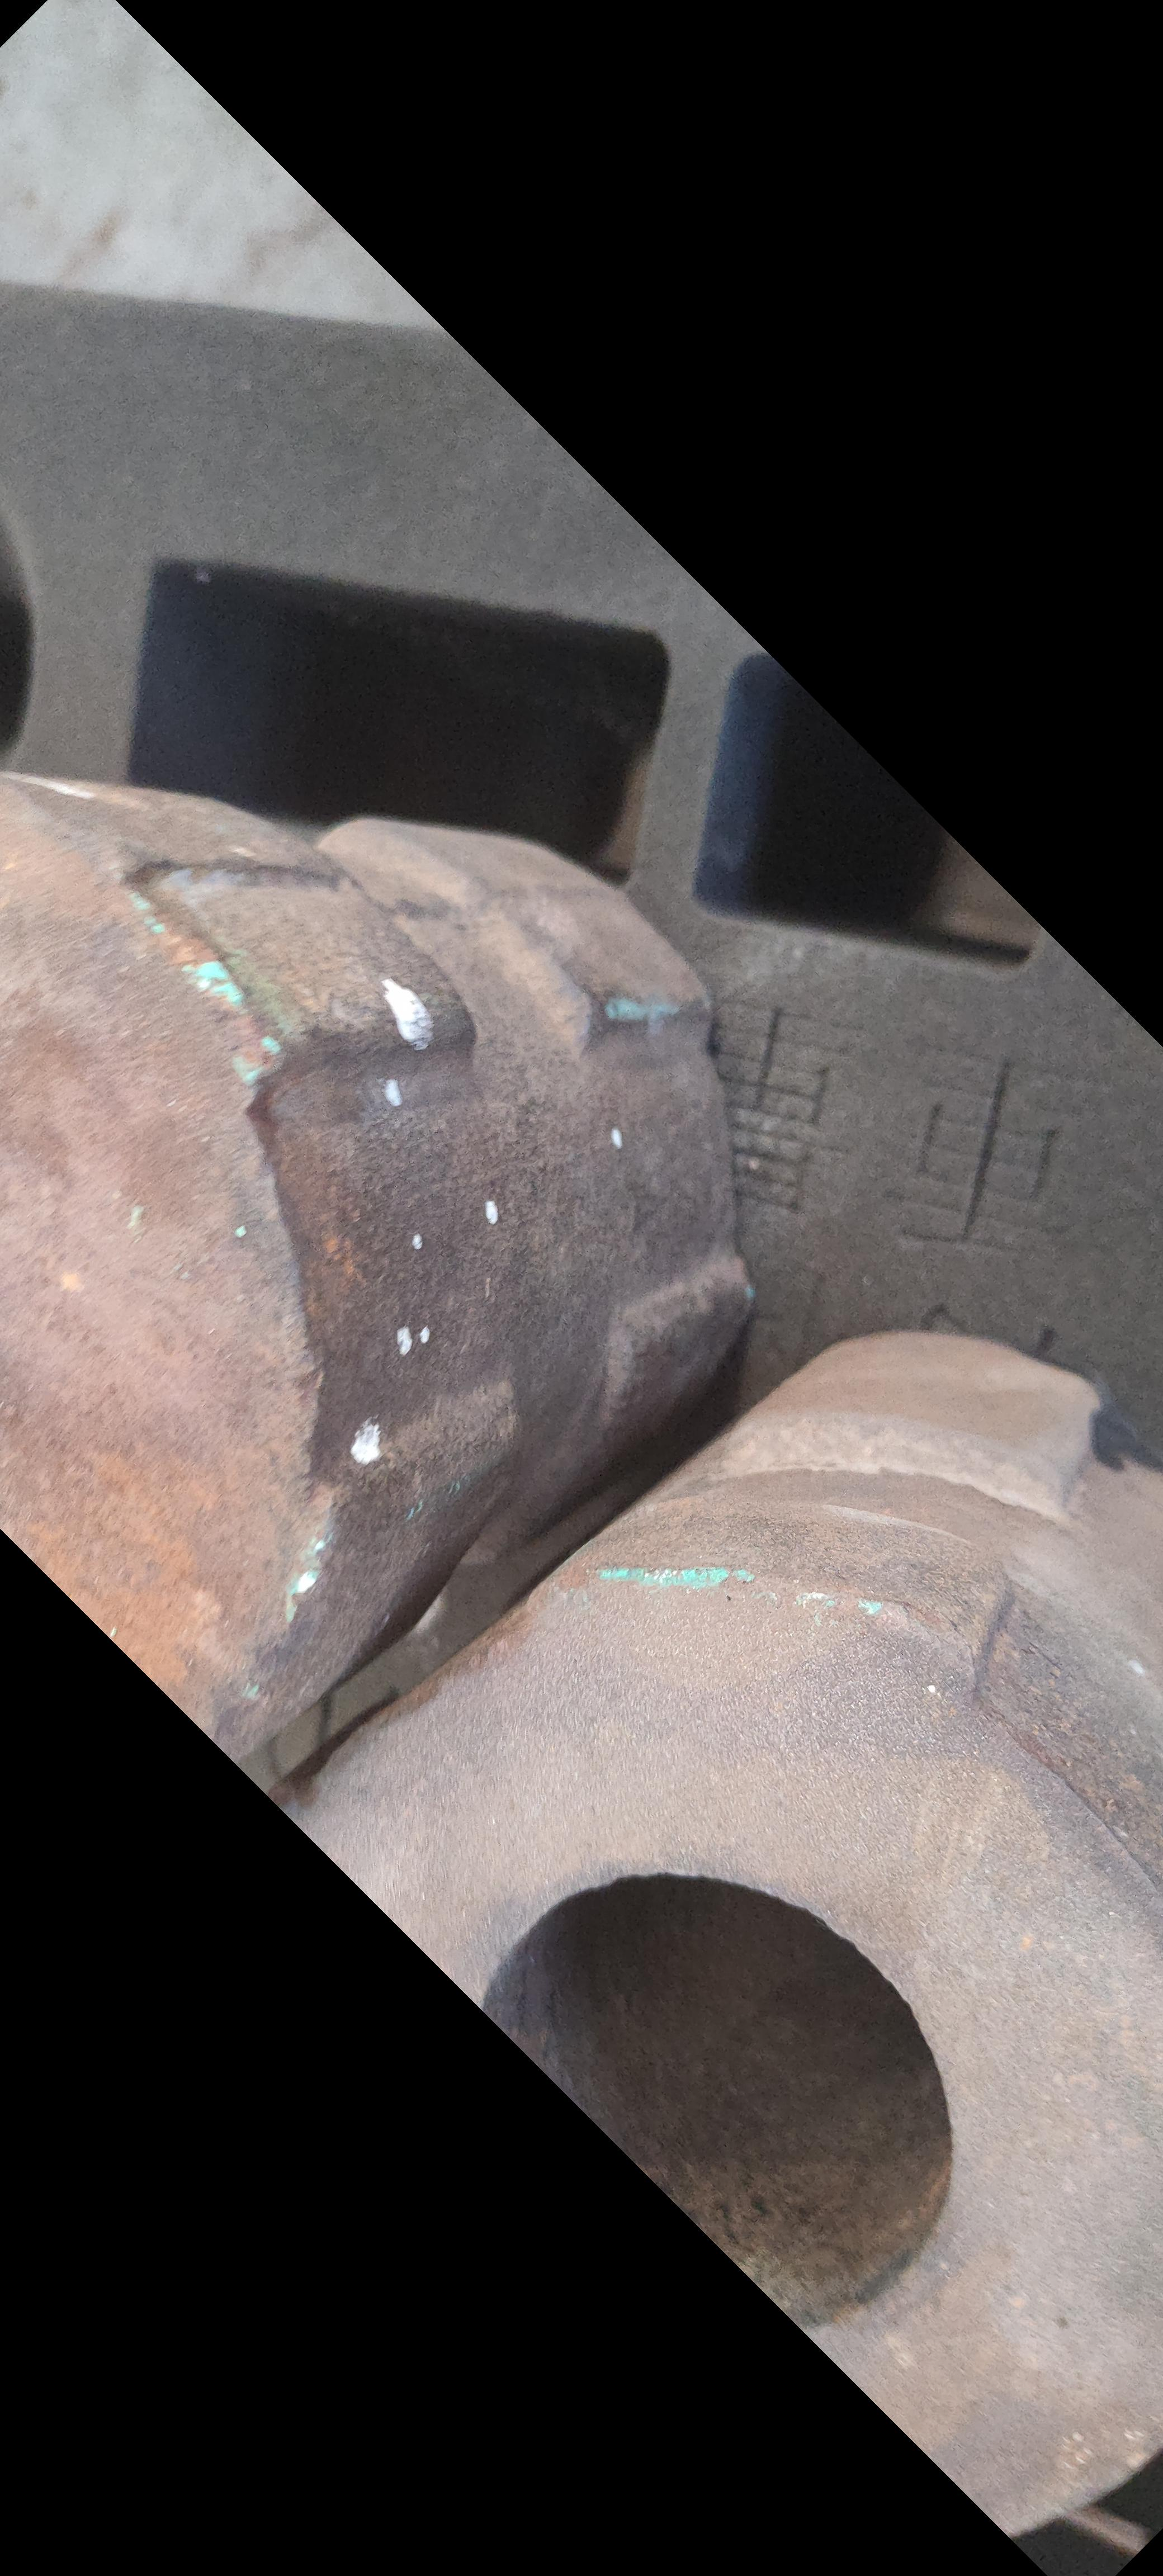pouring hole: (0, 509, 38, 769)
